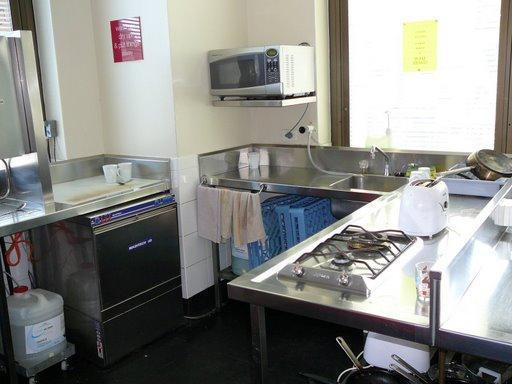Electrodomestico: (63, 184, 187, 360), (306, 215, 418, 314)
Lavaplatos: (330, 134, 393, 203)
Ventana: (335, 2, 502, 147)
